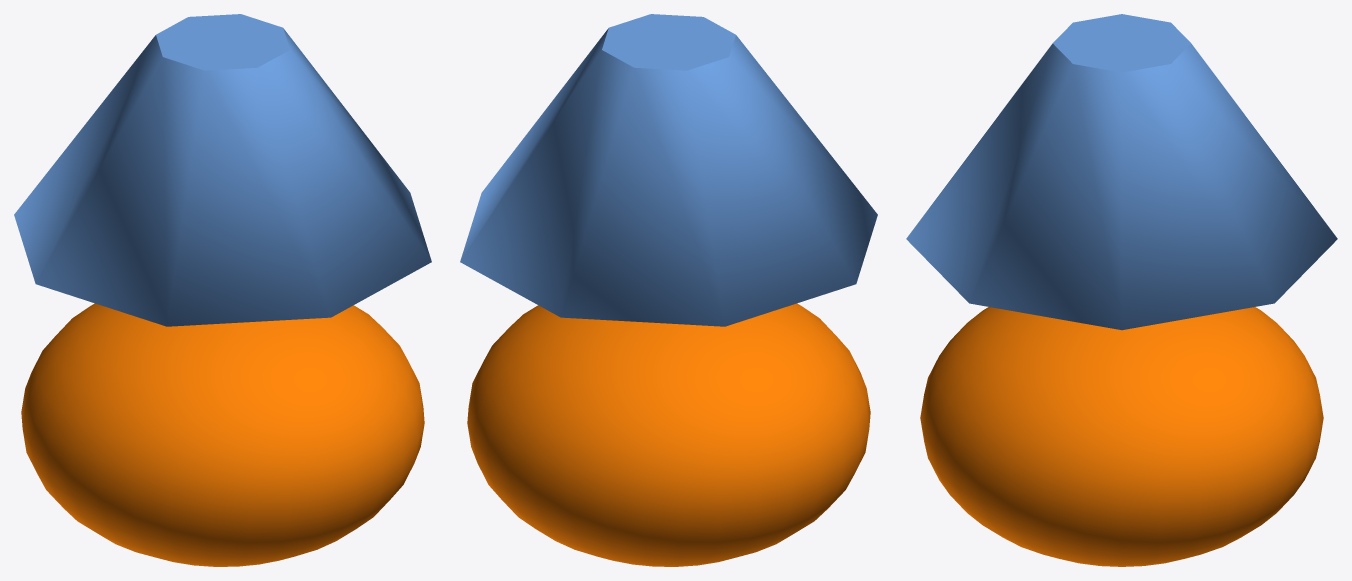
Rendered from Lamp_A.fbx.
3 renders of one model, left to right at view 1: azimuth 30°, elevation 25°; view 2: azimuth 150°, elevation 25°; view 3: azimuth 270°, elevation 25°, orthographic.
Visible parts, largest first — view 1: Lamp_A; view 2: Lamp_A; view 3: Lamp_A.
Boxes of the visible parts, x1=… form: Lamp_A: x1=14, y1=14, x2=431, y2=566; Lamp_A: x1=460, y1=14, x2=877, y2=566; Lamp_A: x1=906, y1=14, x2=1337, y2=566.
Bounding box in the file's own units: 0.637 × 0.637 × 0.7936.
